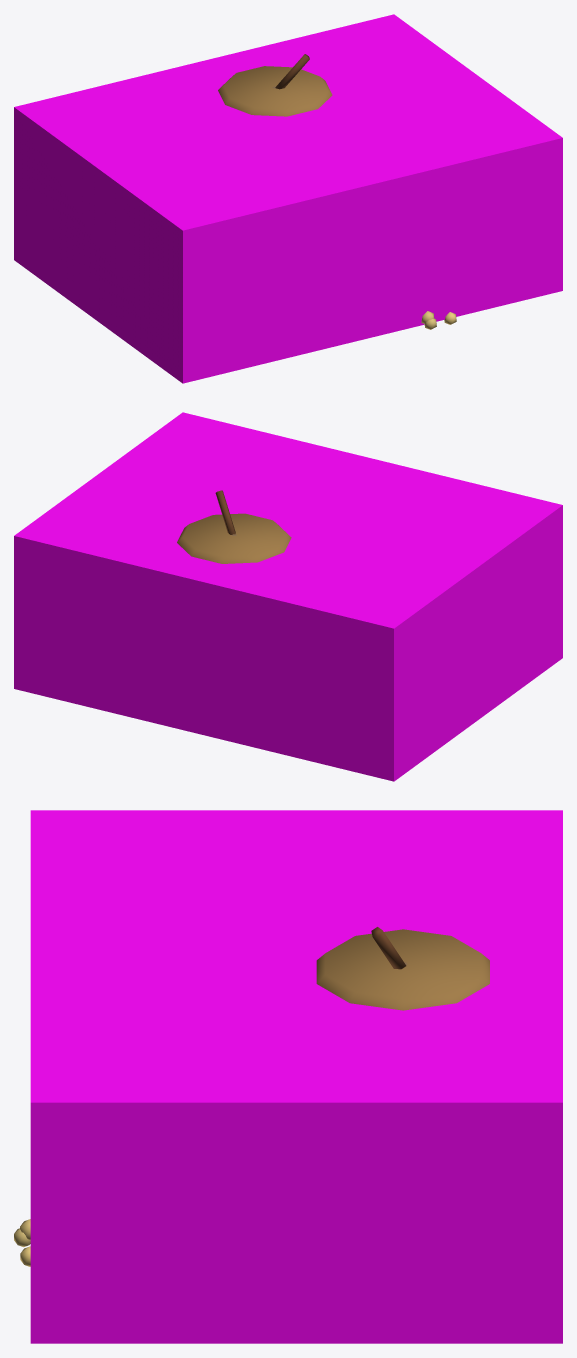
Rendered from PRP_Grain_Sacks_A.glb.
The picture shows the model from 3 angles, top to bottom: view 1: azimuth 30°, elevation 25°; view 2: azimuth 150°, elevation 25°; view 3: azimuth 270°, elevation 25°; orthographic projection. The views are drawn at different scales.
Parts seen in each view (by area): view 1: COL_Sacks, PRP_Grain_Sacks_A_Mesh; view 2: COL_Sacks, PRP_Grain_Sacks_A_Mesh; view 3: COL_Sacks, PRP_Grain_Sacks_A_Mesh.
Part boxes in pixels (<box>): COL_Sacks: <box>14,14,562,383</box>; PRP_Grain_Sacks_A_Mesh: <box>218,54,456,329</box>; COL_Sacks: <box>14,412,562,781</box>; PRP_Grain_Sacks_A_Mesh: <box>177,490,291,563</box>; COL_Sacks: <box>30,810,562,1343</box>; PRP_Grain_Sacks_A_Mesh: <box>14,927,489,1266</box>.
Bounding box in the file's own units: 1.3 × 0.6842 × 1.03.
